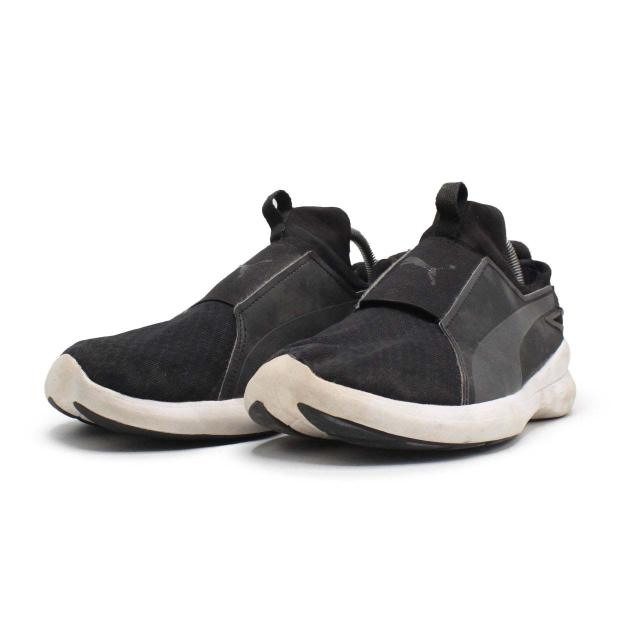midsole: (246, 340, 572, 445), (44, 353, 247, 438)
uppersole: (69, 192, 355, 399), (291, 182, 551, 402)
